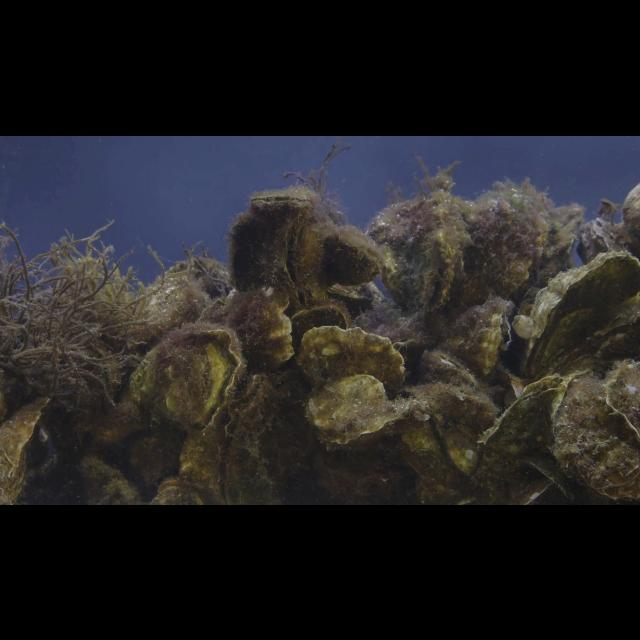Oyster-Closed: (520, 250, 640, 378), (461, 372, 567, 504), (364, 195, 470, 319), (548, 366, 640, 504), (458, 188, 554, 314), (130, 254, 230, 356), (300, 372, 418, 450), (194, 284, 294, 376), (288, 324, 406, 394), (0, 394, 48, 504), (320, 227, 384, 287), (575, 217, 640, 265), (603, 359, 640, 441), (422, 347, 478, 389)
Oyster-Open: (128, 321, 244, 441), (212, 372, 302, 503), (228, 190, 318, 318), (435, 296, 513, 378), (148, 472, 206, 503)
